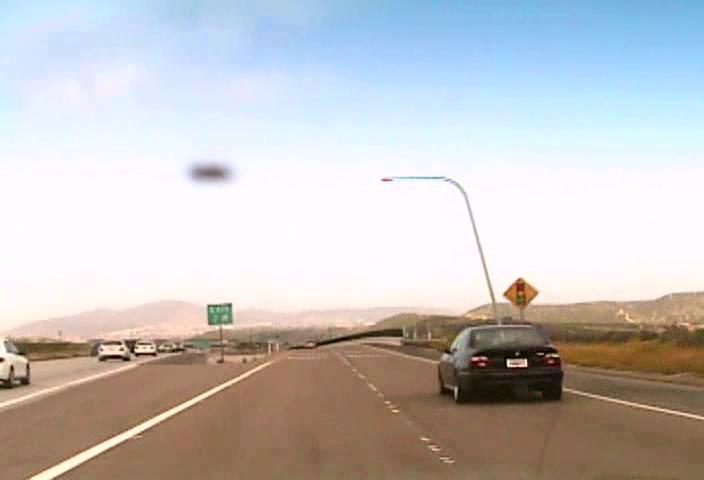signalAhead: (502, 276, 539, 311)
